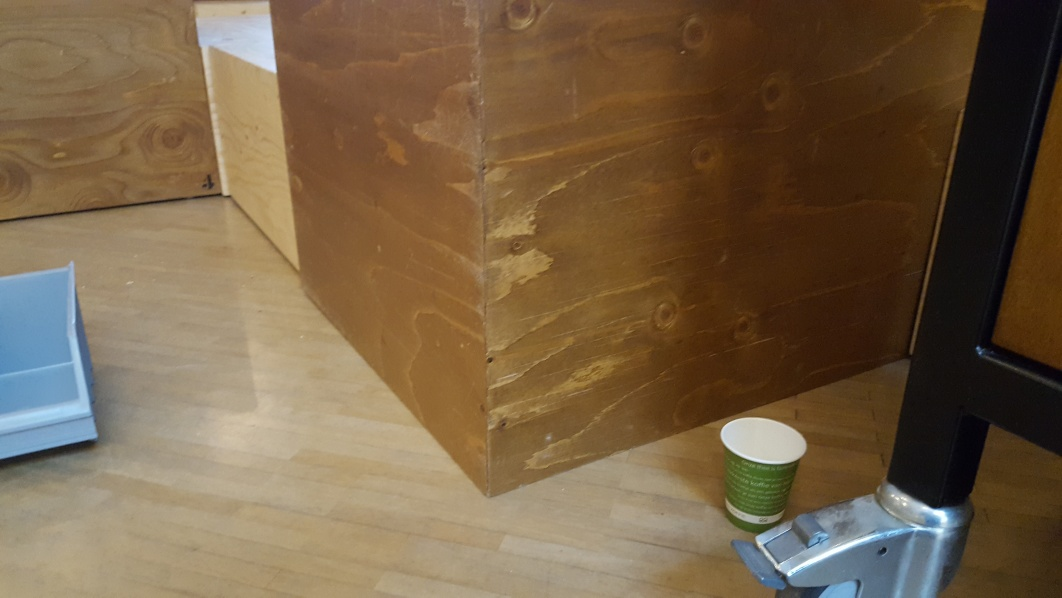cup: (720, 415, 808, 530)
tray: (1, 260, 98, 464)
